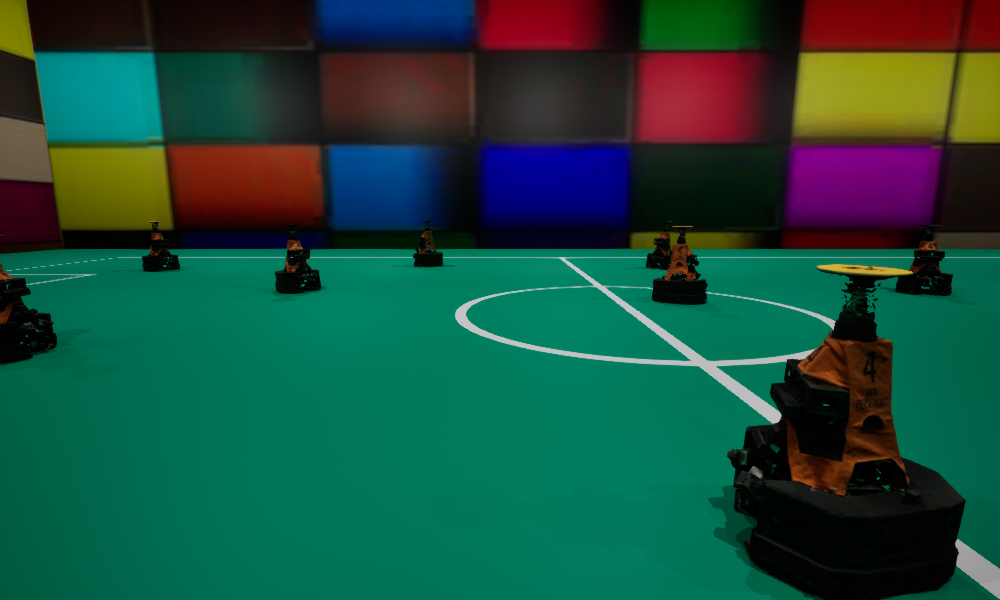0 orange robot TechUnited: (727, 264, 965, 599), (0, 235, 56, 363), (652, 226, 707, 304), (895, 225, 952, 294), (275, 224, 320, 293), (142, 221, 179, 271), (412, 221, 442, 266), (646, 221, 672, 268)
